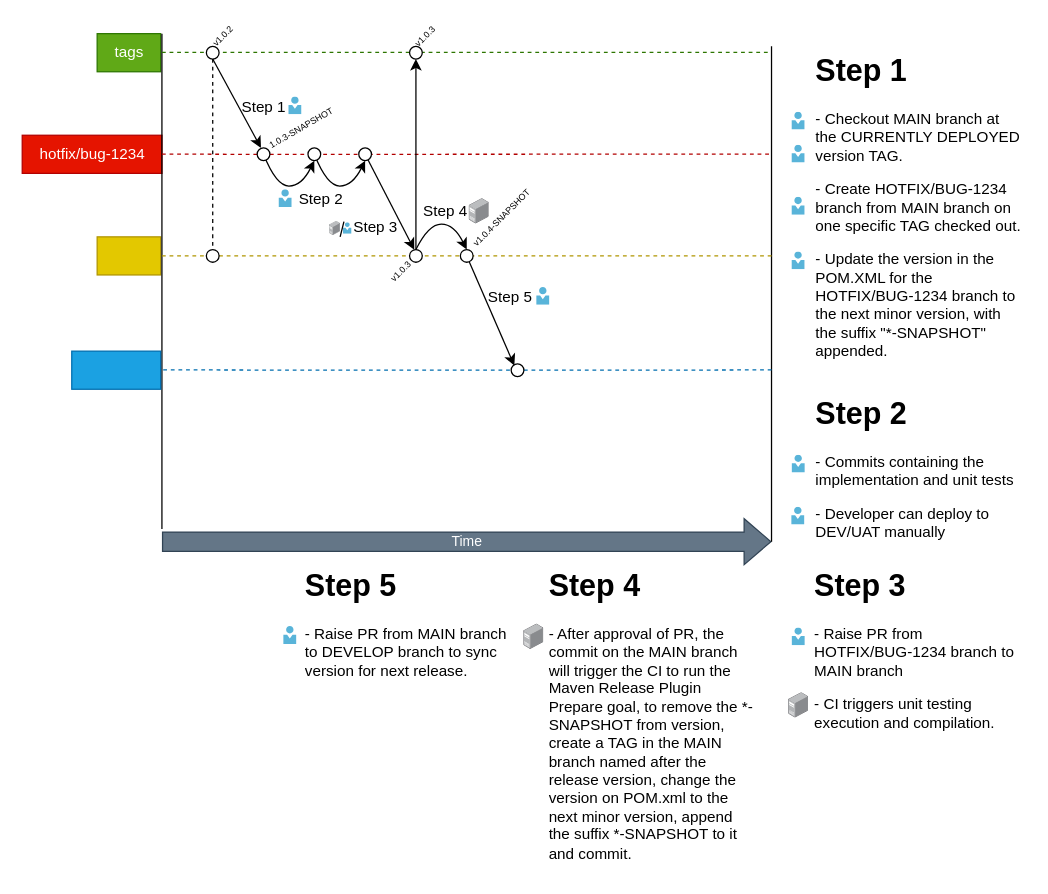
The diagram is 1048 pixels wide and 894 high, and some of its shapes have lost their labels. The centre of each missing label's shape, as x and y in pixels:
"develop" belongs at [115,369].
"main" belongs at [128,255].
